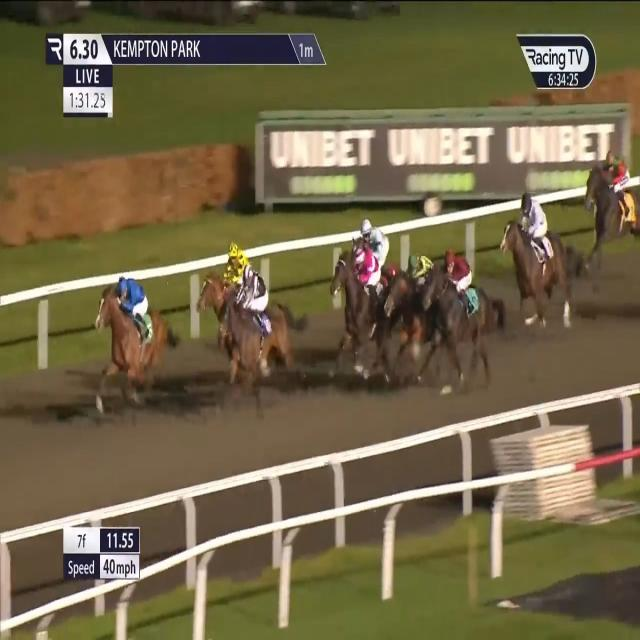horses-racing: (92, 273, 178, 398), (501, 194, 580, 326), (221, 261, 305, 384), (431, 251, 500, 393), (328, 248, 387, 361), (581, 152, 640, 259), (390, 255, 448, 362), (198, 240, 256, 336), (352, 216, 396, 277)
